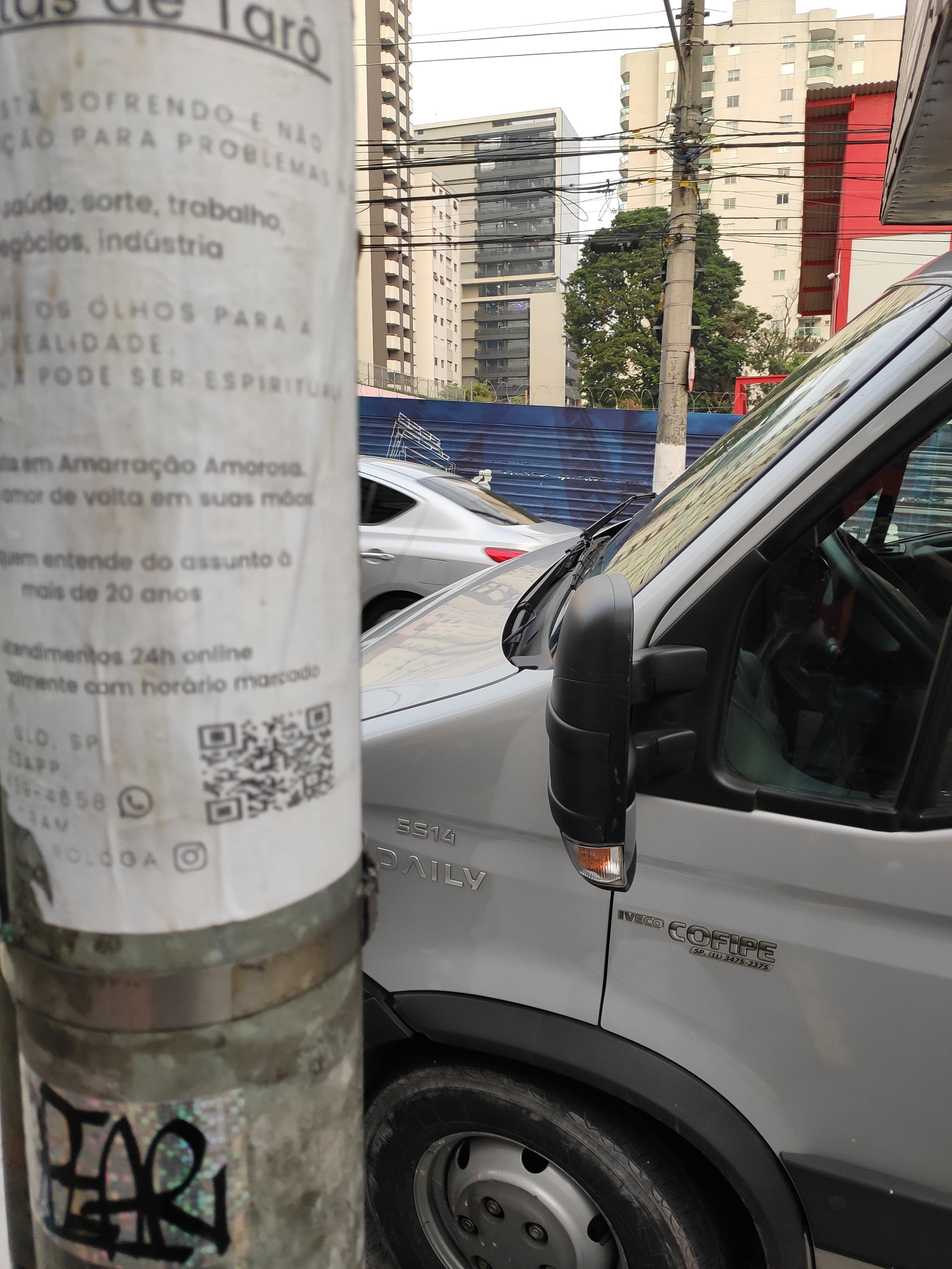QR-CODE: (196, 703, 335, 825)
